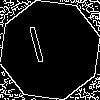I: (25, 25, 50, 73)
